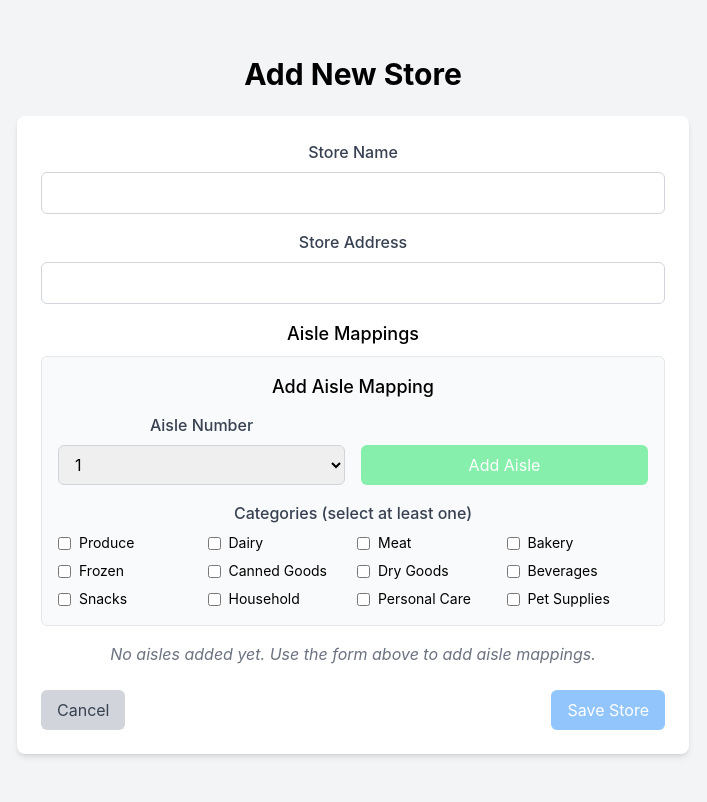
Test: StoreOnboardPage › validates form fields before submission
This screenshot has width=707, height=802.
// Add an aisle so the submit button is enabled
What coordinates should you click on to do the following:
click the checkbox labelled "Produce"
I would click on:
 (64, 543)
Its box is x1=58 y1=536 x2=71 y2=550.
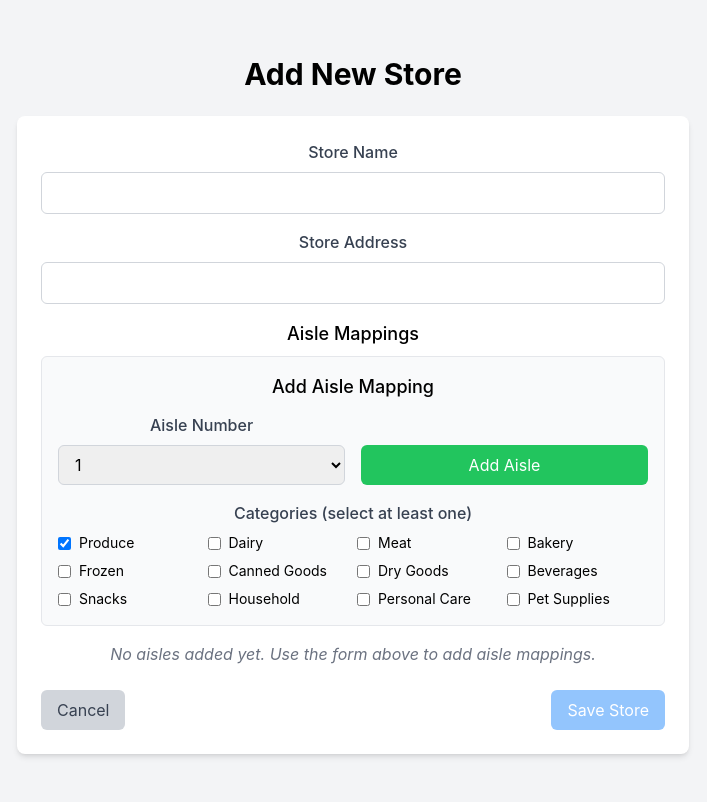
What coordinates should you click on to do the following:
click the button "Add Aisle"
I would click on:
 (504, 465)
Its box is x1=361 y1=445 x2=648 y2=485.
(page scrolled)
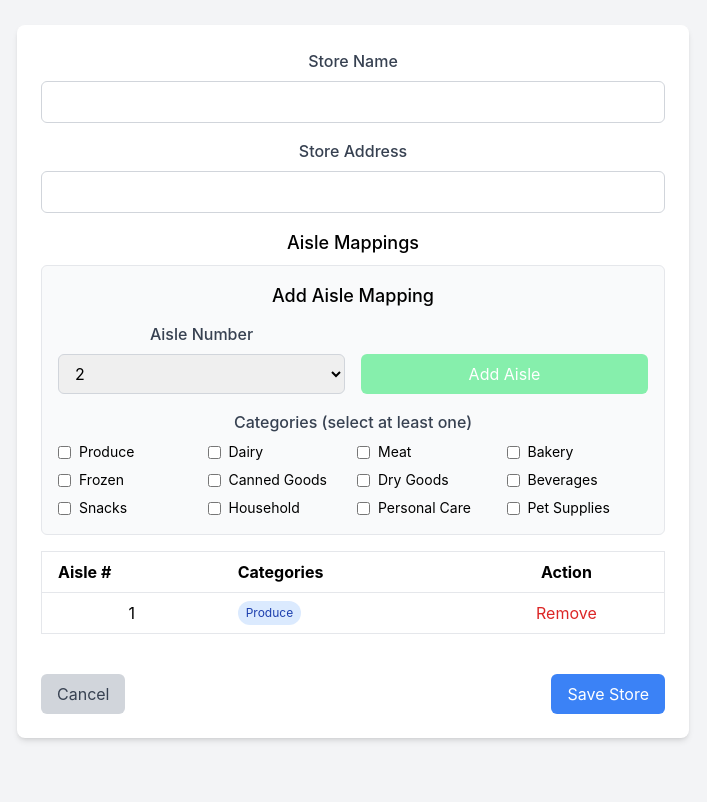
// Submit without filling required fields
What coordinates should you click on to do the following:
click the button "Save Store"
I would click on:
 (608, 694)
Its box is x1=552 y1=674 x2=665 y2=714.
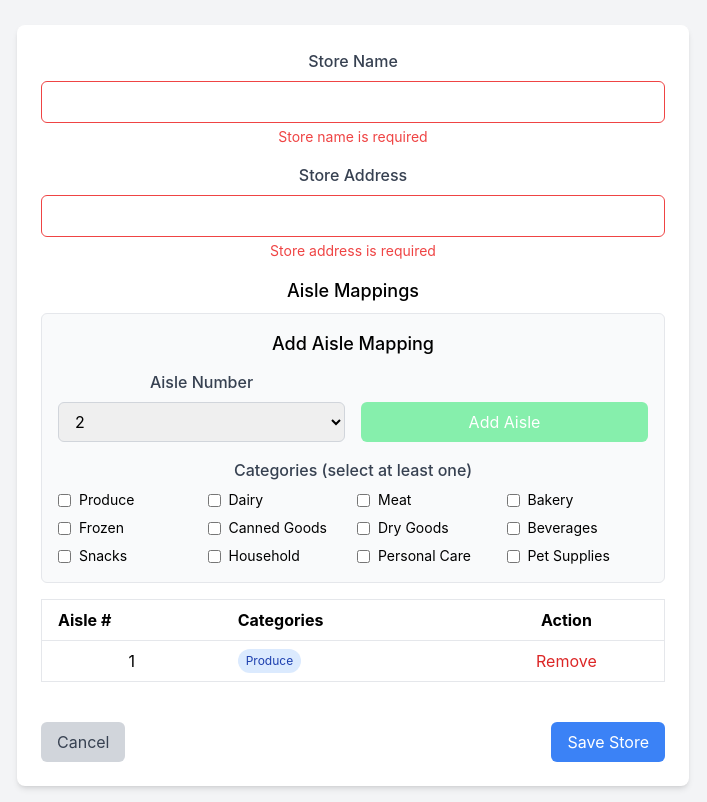
Now the text "Store name is required" is shown, box x1=278 y1=128 x2=428 y2=145
Now the text "Store address is required" is shown, box x1=270 y1=242 x2=436 y2=259
